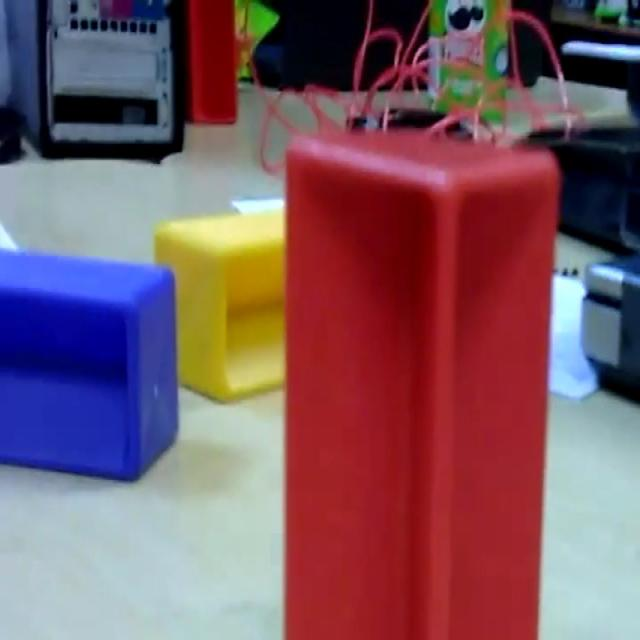blue_block: (0, 242, 179, 482)
red_block: (282, 127, 562, 636)
yellow_block: (153, 198, 287, 402)
